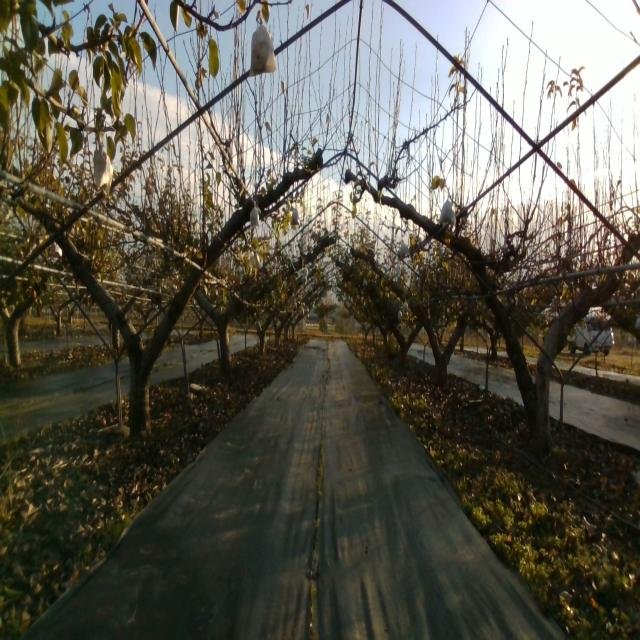pearbags: (248, 13, 277, 77), (91, 151, 114, 197), (438, 200, 457, 224), (249, 202, 260, 227)
